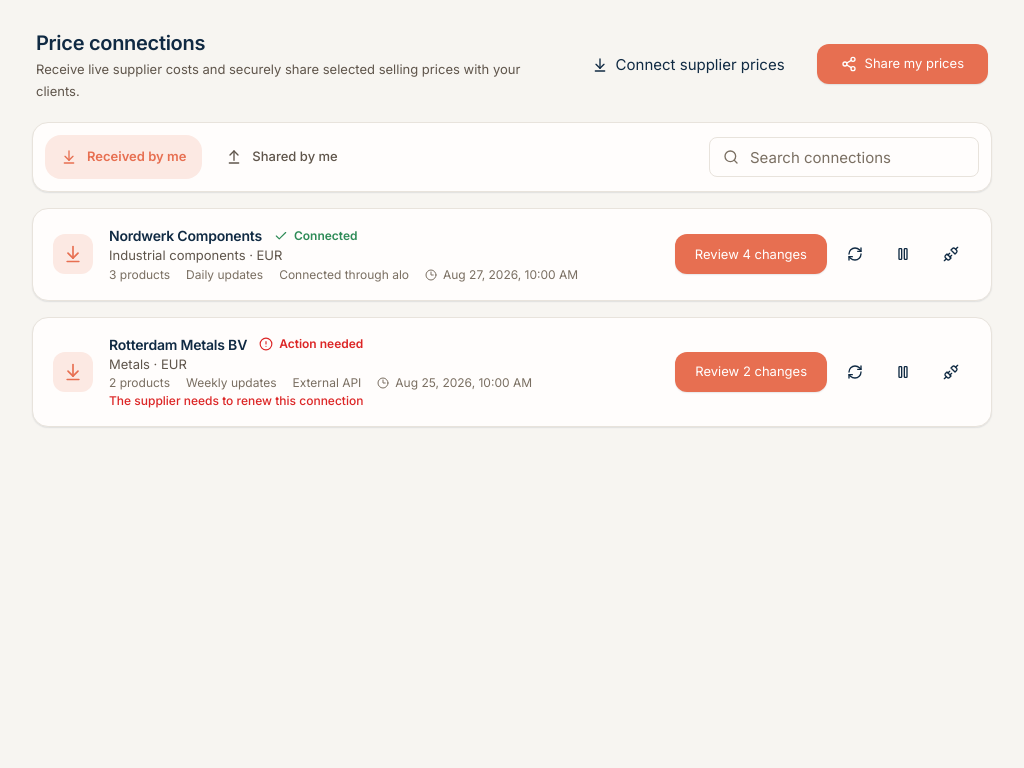
Test case: price connections › can share an explicit selection from the price list
expect the heading "Nordwerk Components" is shown: met, box [109,225,262,246]
Click the button "Share my prices": [902, 64] box [817,44,988,84]
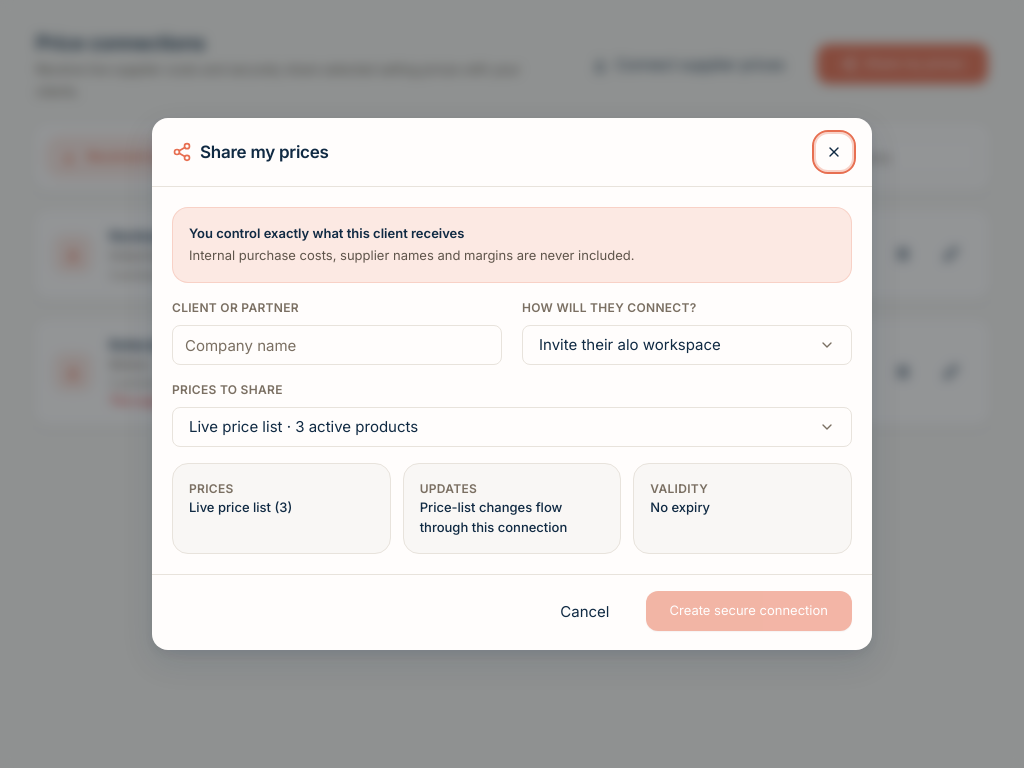
expect the text "Live price list (3)" is shown: met, box [189,499,292,515]
Click the dropdown named "Prices to share": [304, 426] box [172,407,852,447]
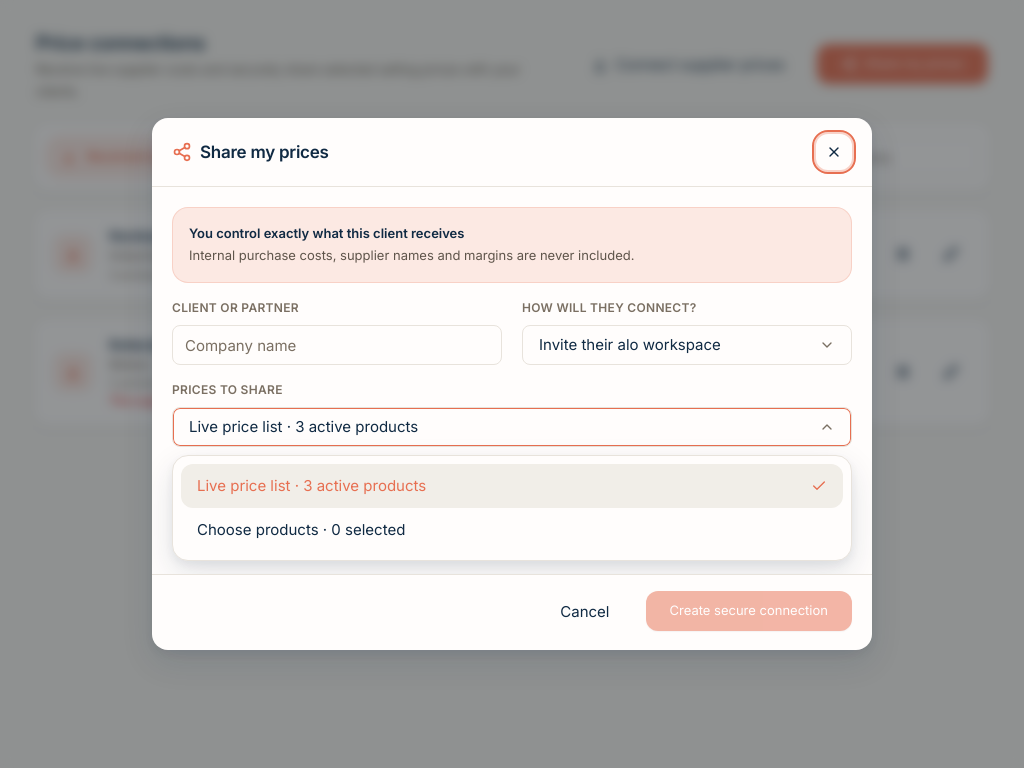
Hover over the option "Choose products · 0 selected": [301, 529] box [181,508,843,552]
Click the option "Choose products · 0 selected": [301, 529] box [181,508,843,552]
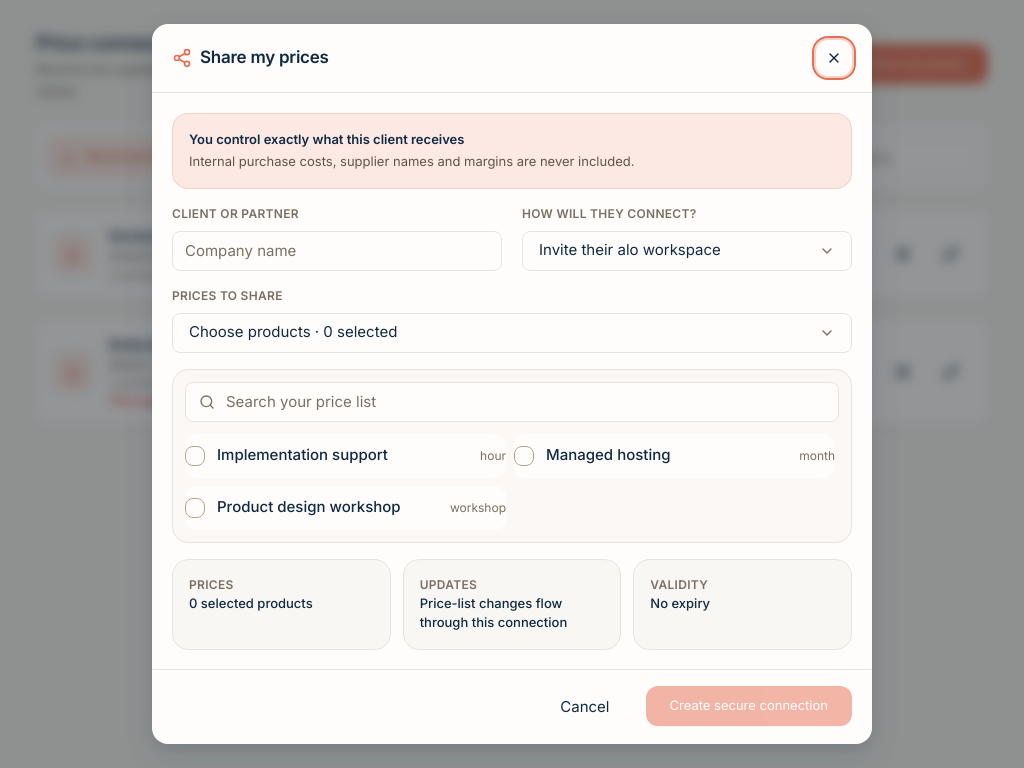
Click the button "Managed hosting month": [608, 455] box [514,434,835,478]
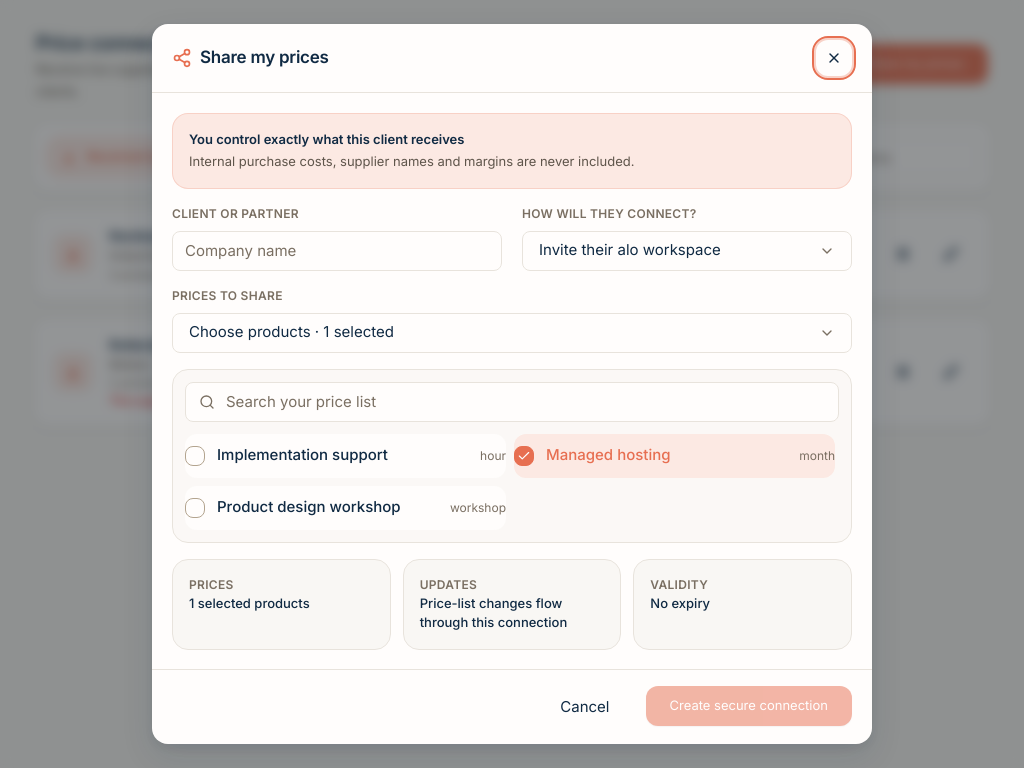
expect the text "1 selected products" is shown: met, box [189,595,310,611]
